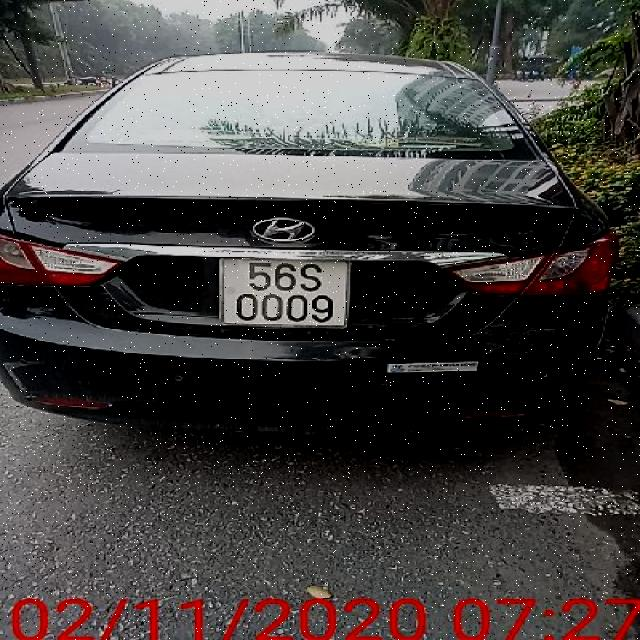0: (260, 293, 284, 322), (286, 294, 308, 323), (236, 293, 259, 320)
5: (245, 260, 272, 290), (274, 263, 298, 292)
9: (311, 294, 334, 324)
S: (300, 263, 324, 292)
